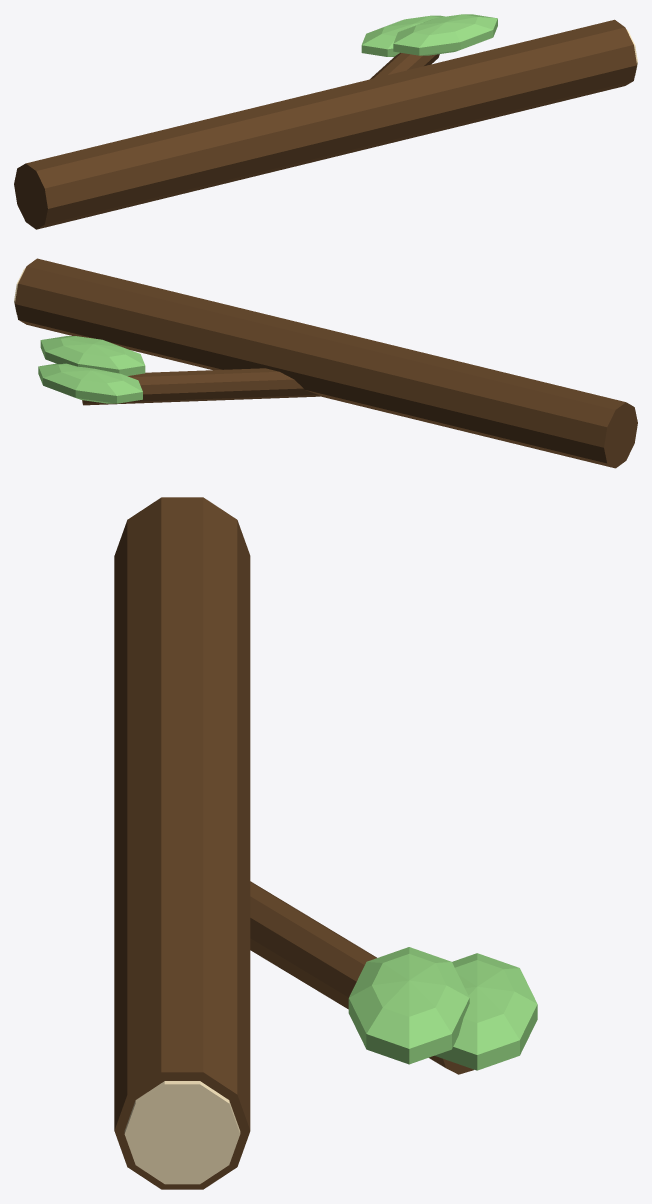
File: test_branch.glb
3 views of the same model, one above another, from view 1: azimuth 30°, elevation 25°; view 2: azimuth 150°, elevation 25°; view 3: azimuth 270°, elevation 25° (orthographic). The views are drawn at different scales.
Visible parts, largest first — view 1: Branch; view 2: Branch; view 3: Branch.
Boxes of the visible parts, left/top/right/bottom form: Branch: left=14, top=14, right=637, bottom=229; Branch: left=14, top=258, right=637, bottom=468; Branch: left=114, top=497, right=537, bottom=1189.
Bounding box in the file's own units: 1.21 × 0.1157 × 0.3733.
